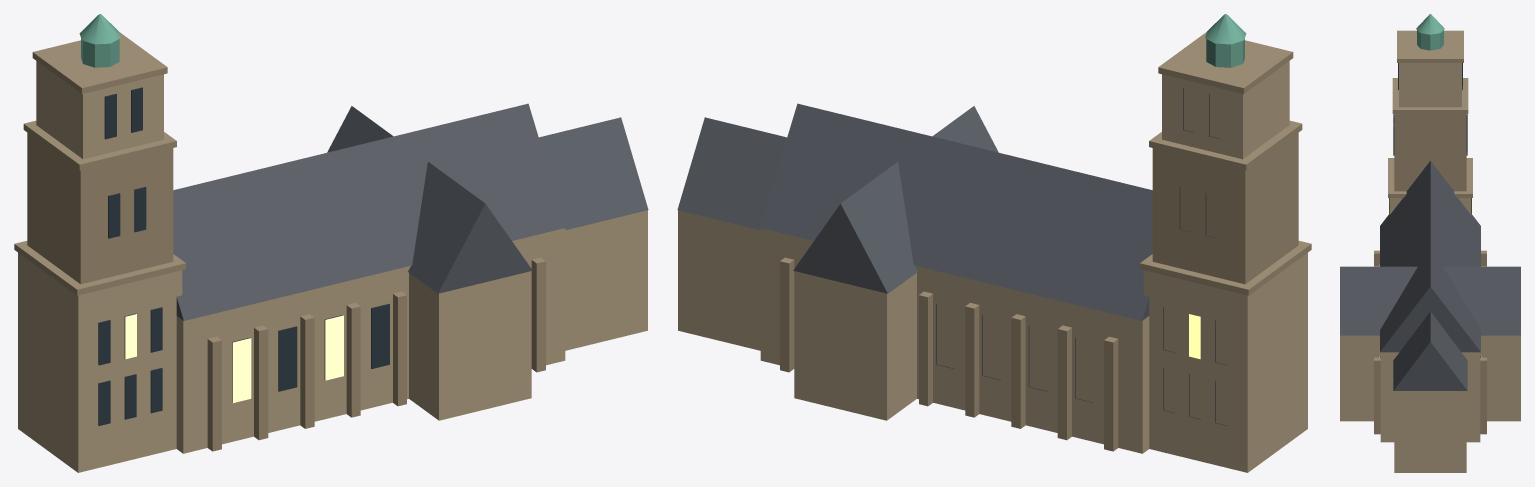
File: laurenskerk.glb
The picture shows the model from 3 angles, left to right: view 1: azimuth 30°, elevation 25°; view 2: azimuth 150°, elevation 25°; view 3: azimuth 270°, elevation 25°; orthographic projection. The views are drawn at different scales.
Visible parts, largest first — view 1: schipkap, toren0, schip, toren1, transept, transeptkap, koor, koorkap, toren2, torenlijst2, galmgat0-1, ramen-1 (+13 smaller); view 2: schipkap, toren0, schip, toren1, transept, transeptkap, koor, toren2, koorkap, torenlijst2, torenlijst0, torenlijst1 (+8 smaller); view 3: schipkap, transeptkap, transept, koor, toren1, koorkap, toren2, schip, torenlijst2, steunbeer36, torenlijst1, torenlijst0 (+3 smaller).
Boxes of the visible parts, <box> form: schipkap: <box>173,103,565,320</box>; toren0: <box>18,253,182,472</box>; schip: <box>176,228,565,453</box>; toren1: <box>27,133,173,284</box>; transept: <box>409,271,531,420</box>; transeptkap: <box>327,106,532,293</box>; koor: <box>565,210,647,350</box>; koorkap: <box>539,117,648,230</box>; toren2: <box>36,61,163,159</box>; torenlijst2: <box>32,32,167,94</box>; galmgat0-1: <box>98,307,162,425</box>; ramen-1: <box>232,303,389,402</box>; schipkap: <box>760,103,1152,320</box>; toren0: <box>1143,253,1307,472</box>; schip: <box>760,228,1149,453</box>; toren1: <box>1152,133,1298,284</box>; transept: <box>794,271,916,420</box>; transeptkap: <box>793,106,998,293</box>; koor: <box>678,210,760,350</box>; toren2: <box>1162,61,1289,159</box>; koorkap: <box>677,117,786,230</box>; torenlijst2: <box>1158,32,1293,94</box>; torenlijst0: <box>1140,241,1311,295</box>; torenlijst1: <box>1149,120,1302,170</box>; schipkap: <box>1380,161,1480,352</box>; transeptkap: <box>1340,266,1520,335</box>; transept: <box>1340,335,1520,421</box>; koor: <box>1394,391,1466,472</box>; toren1: <box>1394,114,1466,191</box>; koorkap: <box>1393,311,1467,390</box>; toren2: <box>1399,63,1461,107</box>; schip: <box>1380,352,1480,442</box>; torenlijst2: <box>1397,30,1463,62</box>; steunbeer36: <box>1374,357,1486,434</box>; torenlijst1: <box>1392,78,1468,114</box>; torenlijst0: <box>1388,158,1472,197</box>.
Bounding box in the file's own units: 99.4 × 69.95 × 40.
